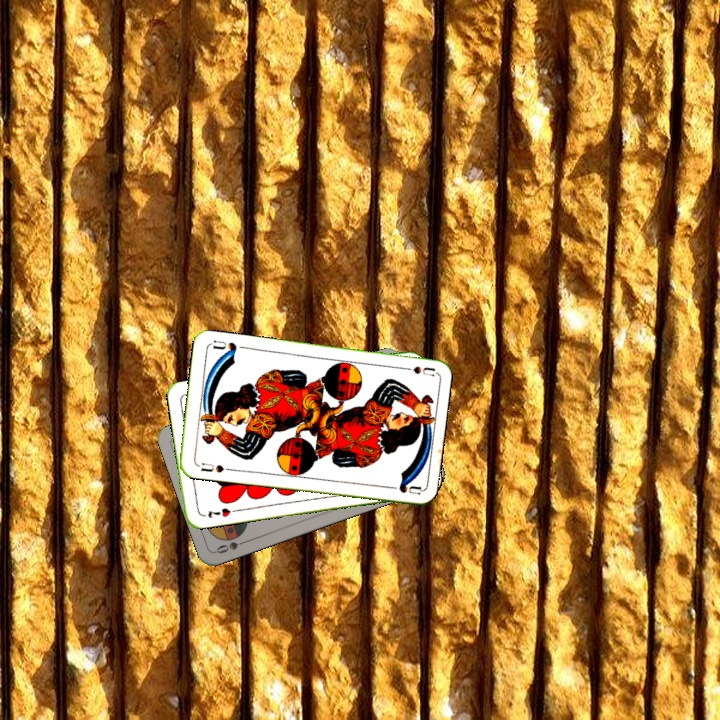H7: (204, 504, 233, 520)
SO: (212, 536, 252, 556)
SU: (395, 362, 436, 379), (193, 459, 234, 475)
